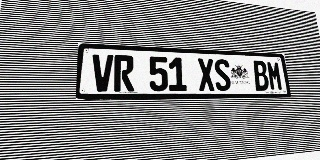1: (168, 57, 187, 91)
5: (149, 56, 169, 91)
B: (252, 60, 270, 91)
M: (266, 61, 283, 91)
R: (114, 55, 134, 91)
S: (213, 59, 232, 91)
V: (92, 54, 113, 92)
X: (197, 58, 216, 91)
